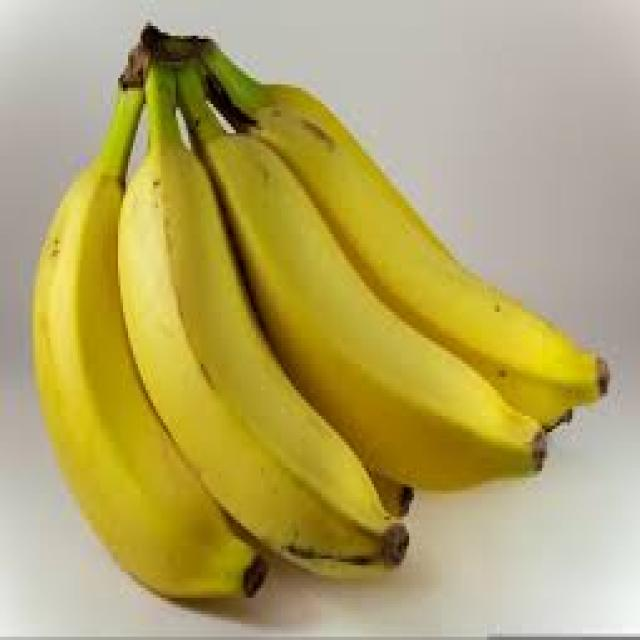Banana: (183, 40, 600, 426), (181, 67, 541, 488), (119, 63, 403, 572), (33, 91, 256, 596)
